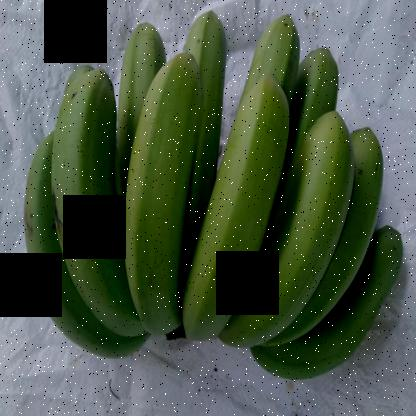freshunripe: (241, 99, 363, 370), (178, 77, 287, 333), (47, 55, 133, 349), (123, 45, 199, 353), (322, 222, 412, 378), (12, 126, 70, 343), (172, 4, 237, 176), (334, 114, 393, 256), (239, 9, 306, 116), (107, 1, 162, 123), (287, 34, 346, 125)
